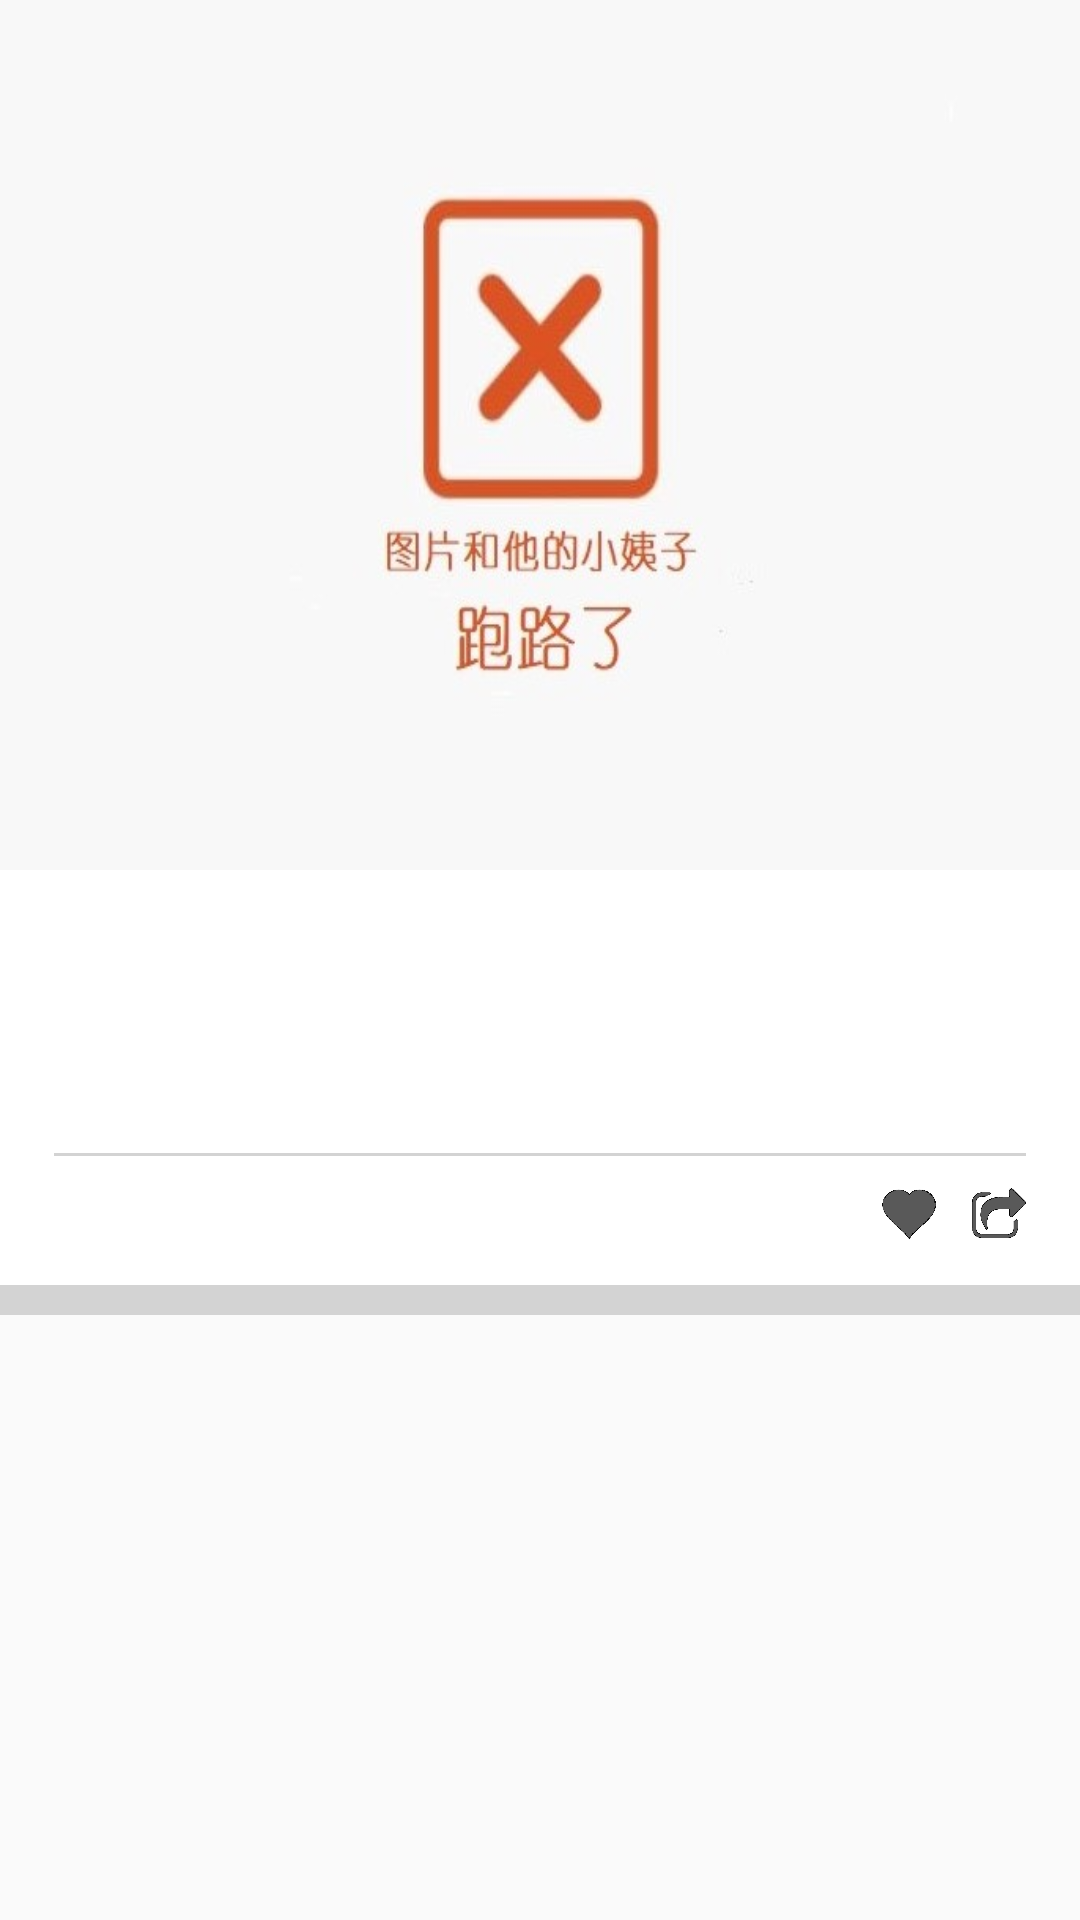

Locate icon controls on the screen. Image size 1080x1920, boxes as region(x1, y1, x2, y2).
collect: region(882, 1189, 936, 1239)
share: region(972, 1188, 1026, 1238)
